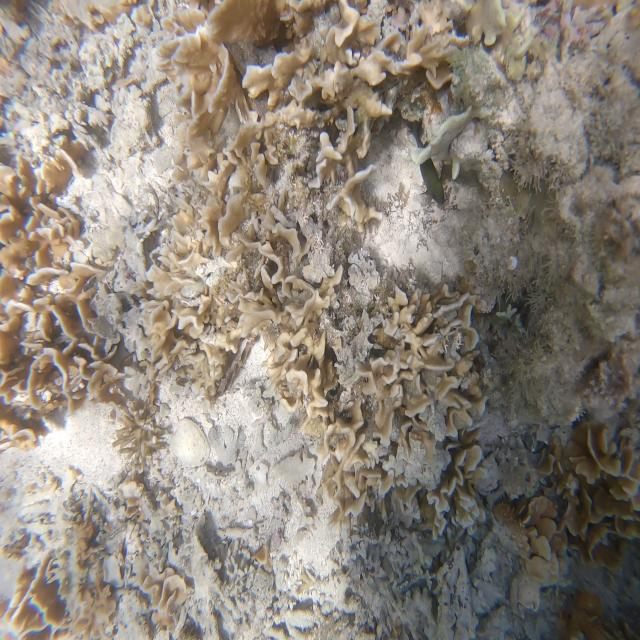kurohagi: (414, 159, 444, 204), (420, 159, 444, 204), (411, 123, 429, 151)
